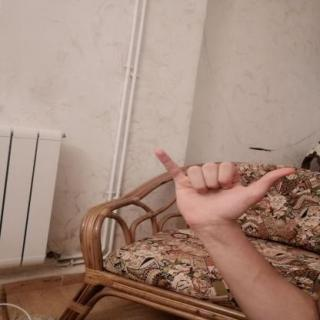YA: (138, 142, 306, 238)
